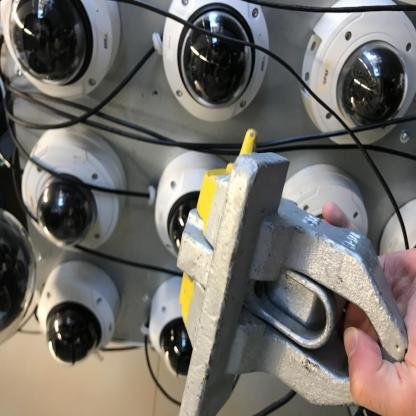Twistlock: (171, 125, 408, 409)
